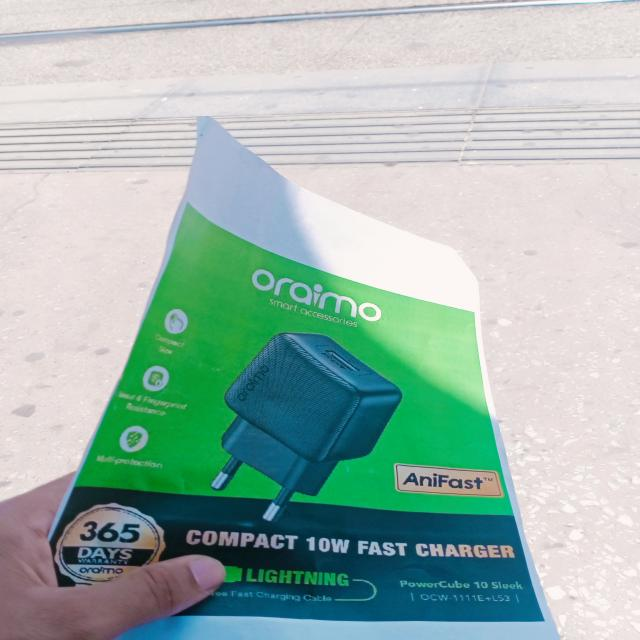PowerCube 10 Sleek OCW-1111ExL53: (388, 573, 532, 610)
